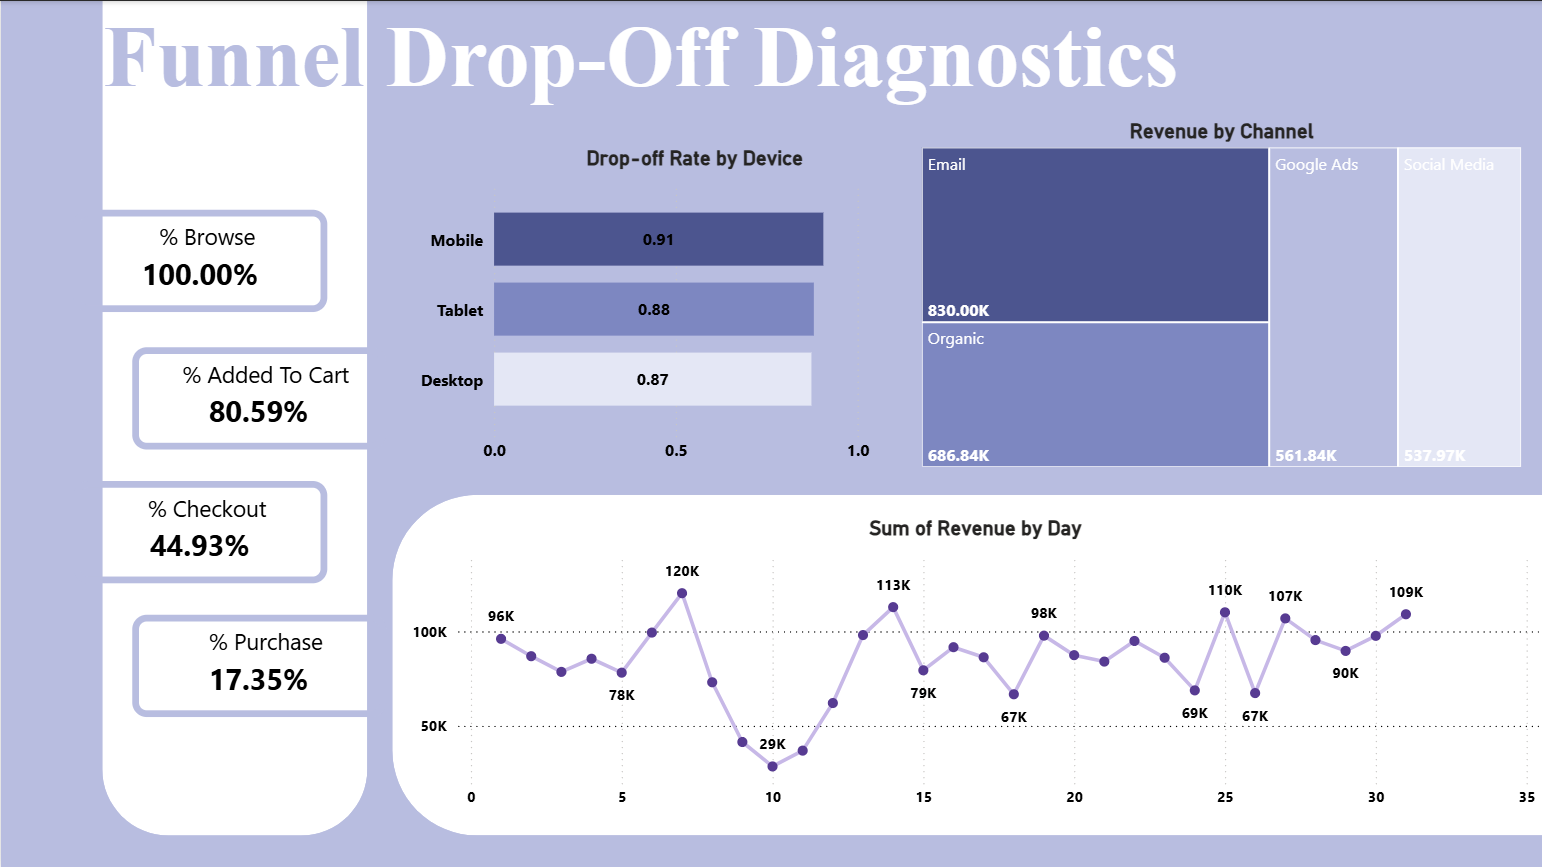

This screenshot's page, from the dashboard's own definition file:
{"tool":"powerbi","page":{"name":"Funnel Drop-Off Diagnostics","canvas":[1280,720],"ordinal":1},"visuals":[{"type":"shape","box":[83.7,0,219.8,691.9],"z":0},{"type":"textbox","box":[17.4,0,1025.6,129.1],"z":1000},{"type":"shape","box":[324.4,409.3,955.8,282.6],"z":2000},{"type":"lineChart","fields":{"Y":["Sum(realistic_funnel_data.Revenue)"],"Category":["realistic_funnel_data.Date.Variation.Date Hierarchy.Day"]},"box":[336,426.7,944.2,251.2],"z":3000},{"type":"card","title":"% Added To Cart","fields":{"Values":["realistic_funnel_data.P_AddToCart"]},"box":[109.3,287.2,210.5,84.9],"z":4000},{"type":"card","title":"% Browse","fields":{"Values":["realistic_funnel_data.p_Browse"]},"box":[60.5,173.3,210.5,84.9],"z":5000},{"type":"card","title":"% Checkout","fields":{"Values":["realistic_funnel_data.P_Checkout"]},"box":[60.5,397.7,210.5,84.9],"z":6000},{"type":"card","title":"% Purchase","fields":{"Values":["realistic_funnel_data.P_Purchase"]},"box":[109.3,509.3,210.5,84.9],"z":7000},{"type":"barChart","fields":{"Category":["realistic_funnel_data.Device"],"Y":["realistic_funnel_data.Drop-off Rate"]},"box":[341.9,119.8,466.3,272.1],"z":9000},{"type":"treemap","title":"Revenue by Channel","fields":{"Group":["realistic_funnel_data.Channel"],"Values":["Sum(realistic_funnel_data.Revenue)"]},"box":[758.1,97.7,507,294.2],"z":10000}]}

Visuals, with their boxes in screenshot pixels (x1, y1, x2, y2), scaled from the page's 1280x720 canvas onto the 1542x867 screenshot:
shape: [101, 0, 366, 833]
textbox: [21, 0, 1256, 155]
shape: [391, 493, 1541, 833]
lineChart - Sum(realistic_funnel_data.Revenue) x realistic_funnel_data.Date.Variation.Date Hierarchy.Day: [405, 514, 1541, 816]
"% Added To Cart" card: [132, 346, 385, 448]
"% Browse" card: [73, 209, 326, 311]
"% Checkout" card: [73, 479, 326, 581]
"% Purchase" card: [132, 613, 385, 716]
barChart - realistic_funnel_data.Device x realistic_funnel_data.Drop-off Rate: [412, 144, 974, 472]
"Revenue by Channel" treemap: [913, 118, 1524, 472]
